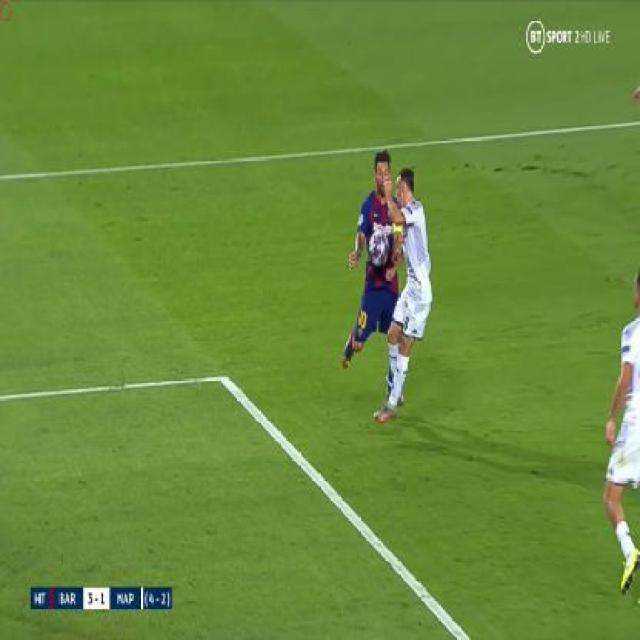ball: (368, 229, 390, 268)
player: (332, 142, 414, 418), (376, 154, 441, 428), (595, 248, 640, 601)
